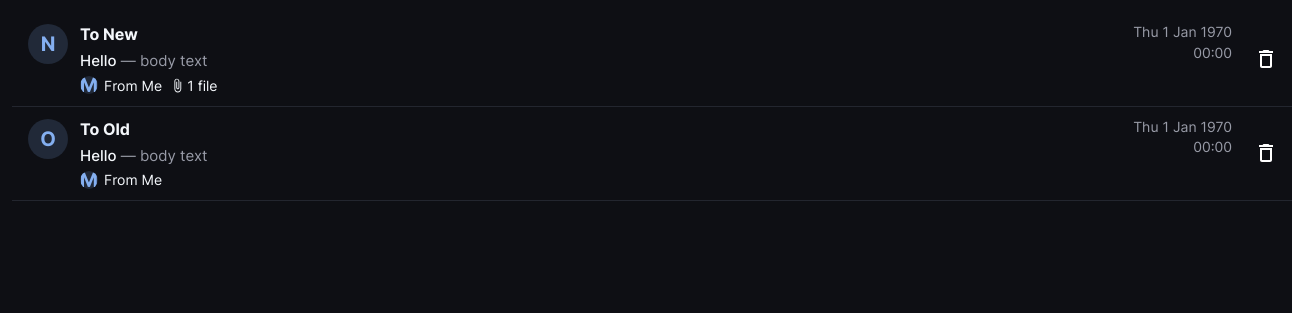
Test: DraftsMailbox › lists drafts newest first, opens one, refreshes when the composer saves
This screenshot has width=1292, height=313.
Click the button with aria-label "Open draft" at x=48, y=44, box [12,12,1240,106]
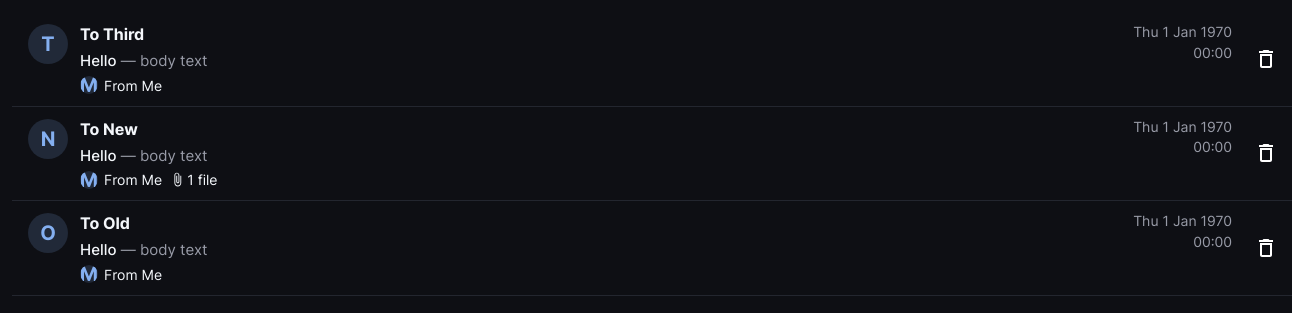
Check: the number of buttons named "Open draft" is 3, box [12,12,1240,106]; [12,106,1240,200]; [12,201,1240,294]
